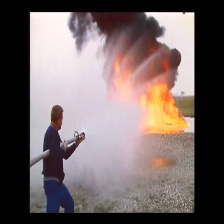fire: (111, 43, 189, 139)
